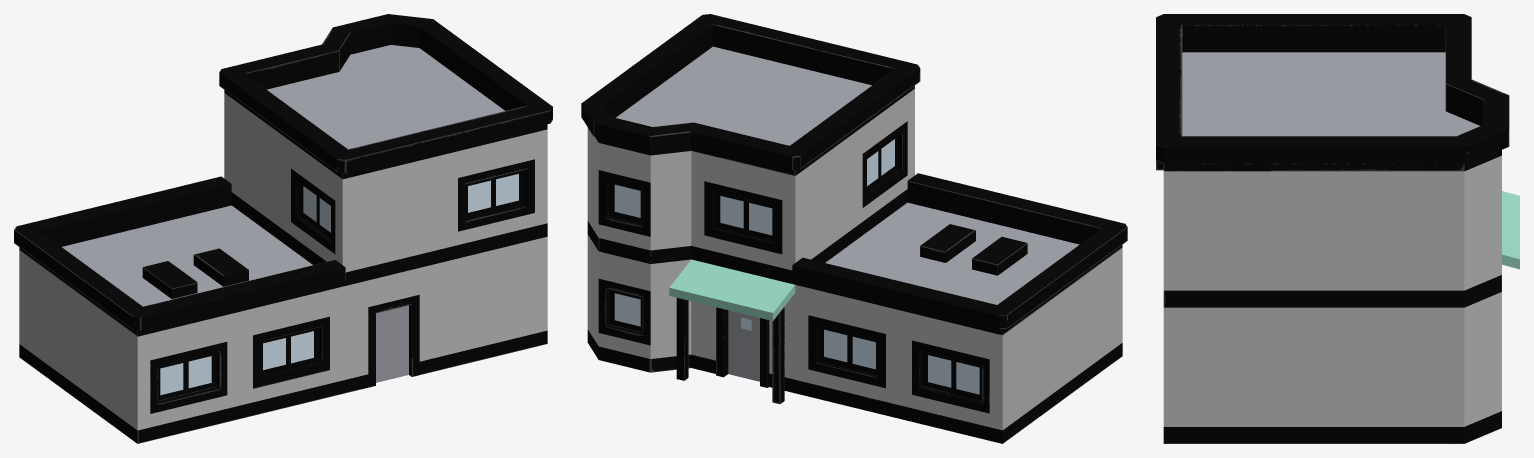
File: small_buildingE1.fbx
3 views of the same model, side by side, from view 1: azimuth 30°, elevation 25°; view 2: azimuth 150°, elevation 25°; view 3: azimuth 270°, elevation 25° (orthographic). The views are drawn at different scales.
Visible parts, largest first — view 1: small_buildingE; view 2: small_buildingE; view 3: small_buildingE.
Boxes of the visible parts, bbox=[...] form: small_buildingE: bbox=[14, 14, 552, 443]; small_buildingE: bbox=[581, 14, 1127, 443]; small_buildingE: bbox=[1156, 14, 1519, 443].
Size of the model in its own units: 164 by 88 by 96.79.
